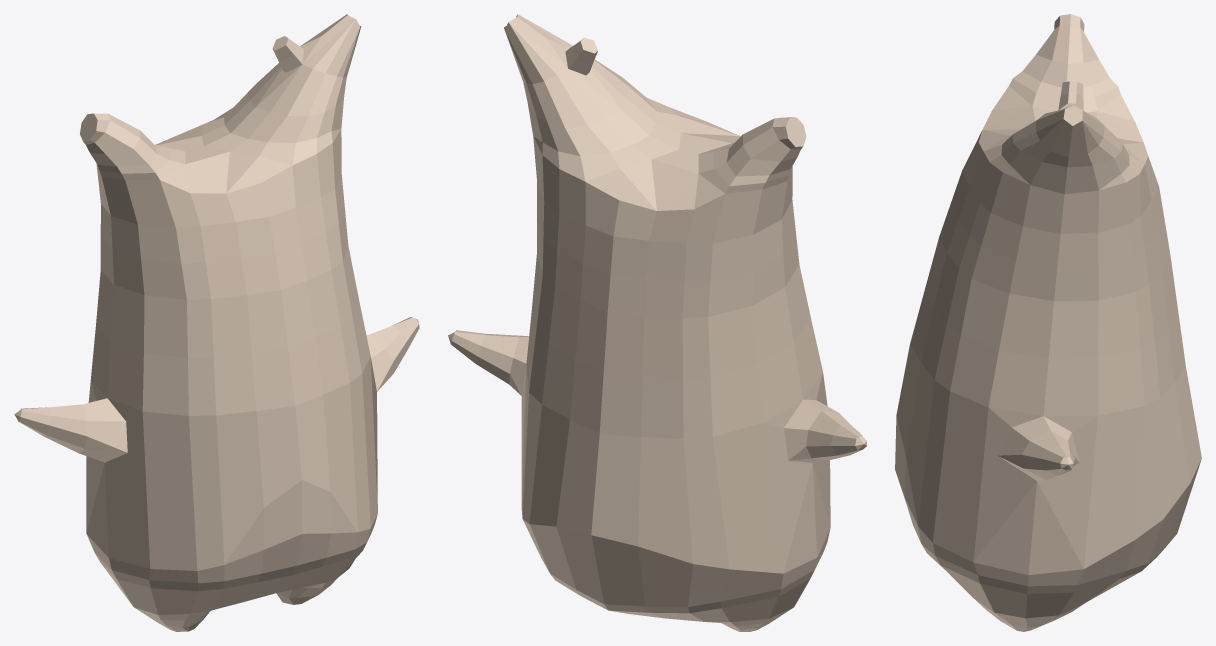
The model's file is frame_0055.obj.
3 views of the same model, side by side, from view 1: azimuth 30°, elevation 25°; view 2: azimuth 150°, elevation 25°; view 3: azimuth 270°, elevation 25° (orthographic). The views are drawn at different scales.
Parts seen in each view (by area): view 1: korok; view 2: korok; view 3: korok.
Boxes of the visible parts, x1=… form: korok: x1=14, y1=14, x2=419, y2=631; korok: x1=448, y1=14, x2=866, y2=631; korok: x1=895, y1=14, x2=1201, y2=631.
Size of the model in its own units: 1.62 by 2.15 by 1.06.
